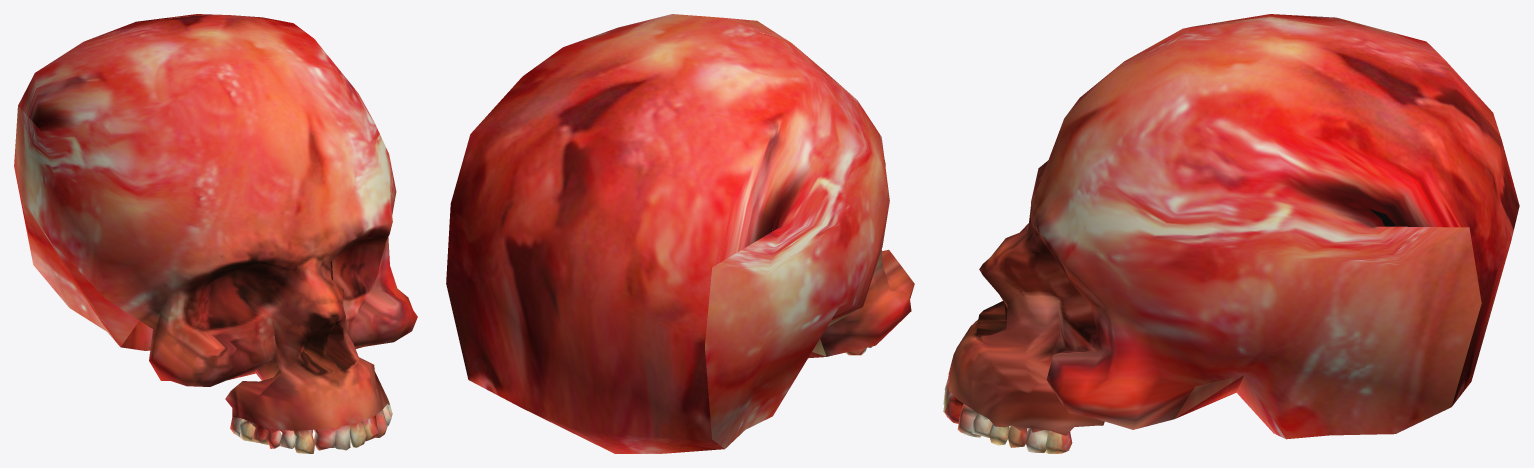
File: male_head_noneck-05.fbx
3 renders of one model, left to right at view 1: azimuth 30°, elevation 25°; view 2: azimuth 150°, elevation 25°; view 3: azimuth 270°, elevation 25°, orthographic. The views are drawn at different scales.
Parts seen in each view (by area): view 1: head8; view 2: head8; view 3: head8.
Part boxes in pixels (box(x1,y1,x2,y2)): head8: box(14, 14, 417, 453); head8: box(446, 14, 914, 453); head8: box(943, 14, 1519, 453).
Size of the model in its own units: 0.1954 by 0.1959 by 0.2711.
